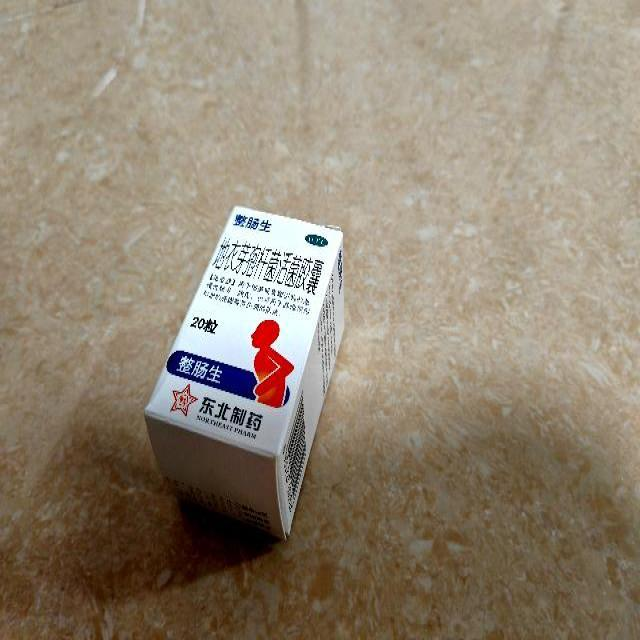box: (144, 206, 346, 541)
